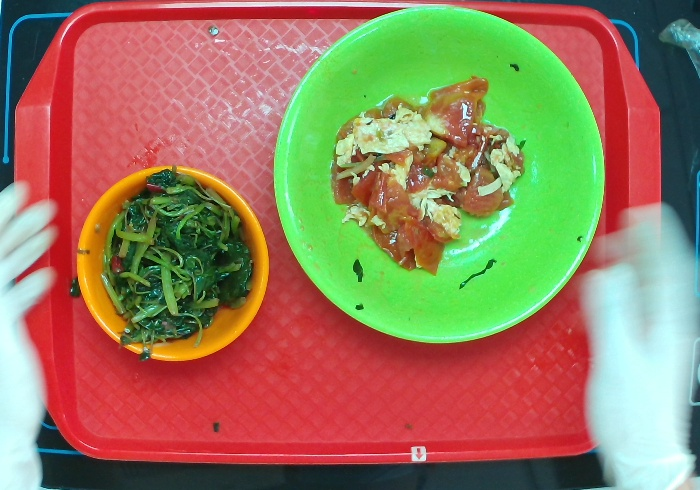YKMZ-Ju_Se_Yuan_Wan: (75, 163, 271, 365)
YKMZ-Lv_Se_Tang_Wan: (270, 3, 607, 347)
